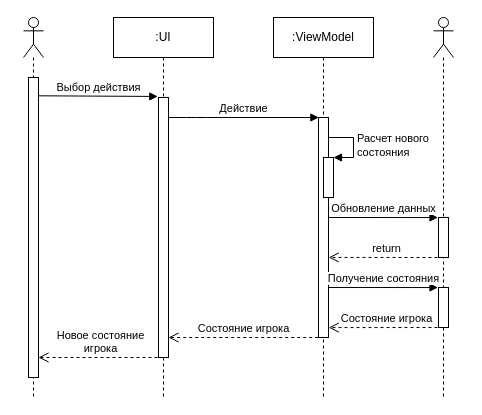
Image size: 482x415. Some labels were removed from this diagram. Each missing label, with the box of its shape:
База Данных: (432, 16, 454, 398)
Игрок: (22, 16, 44, 398)
